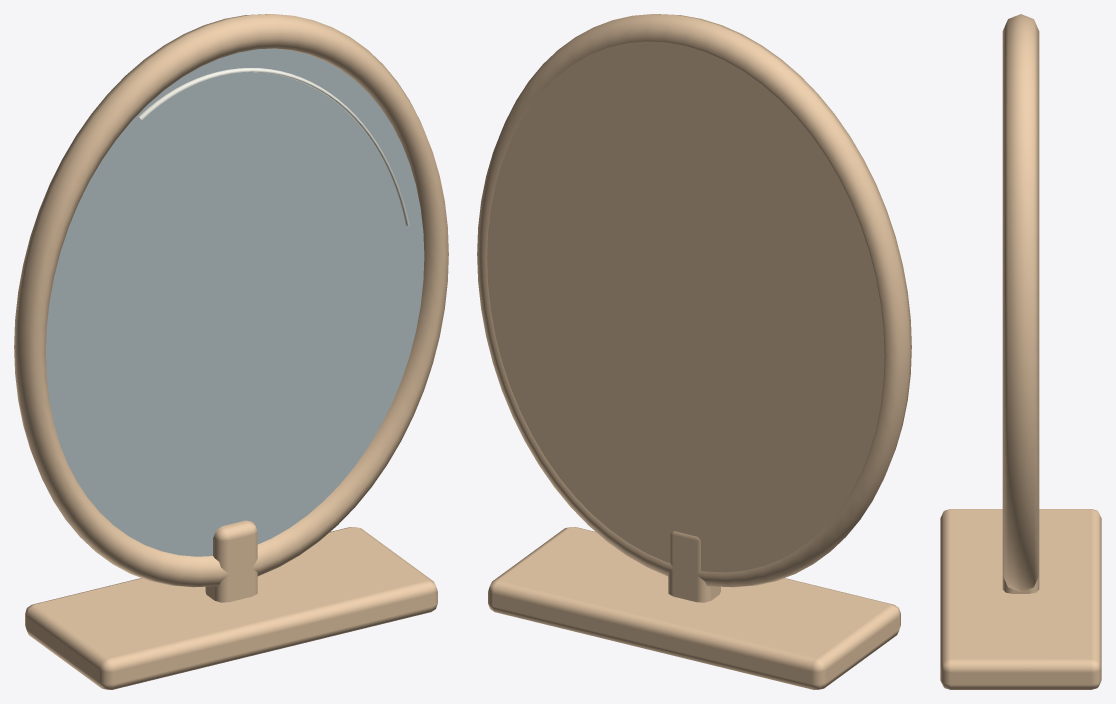
Rendered from suite_dressing_mirror.glb.
3 renders of one model, left to right at view 1: azimuth 30°, elevation 25°; view 2: azimuth 150°, elevation 25°; view 3: azimuth 270°, elevation 25°, orthographic. The views are drawn at different scales.
Size of the model in its own units: 0.915 by 1.23 by 0.31.
